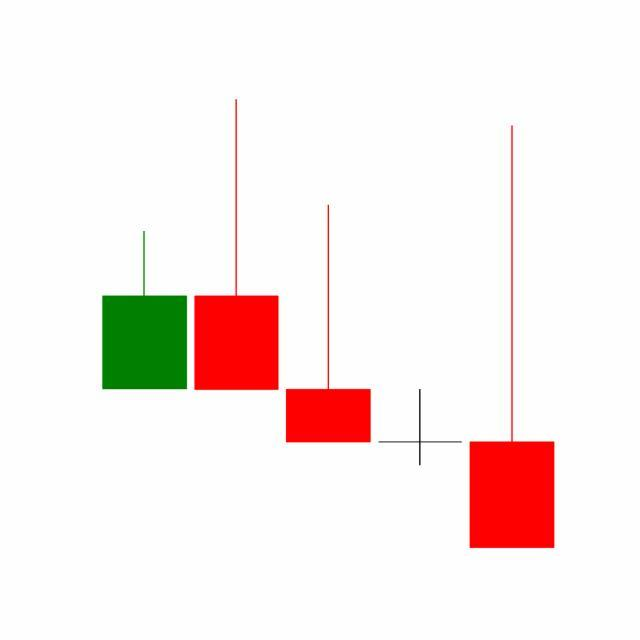Spinning Top: (374, 389, 468, 468)
